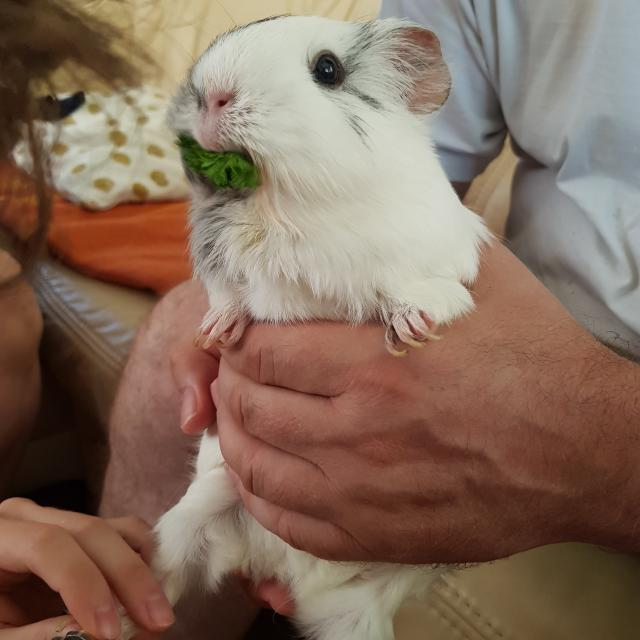guinea pig: (146, 8, 494, 640)
